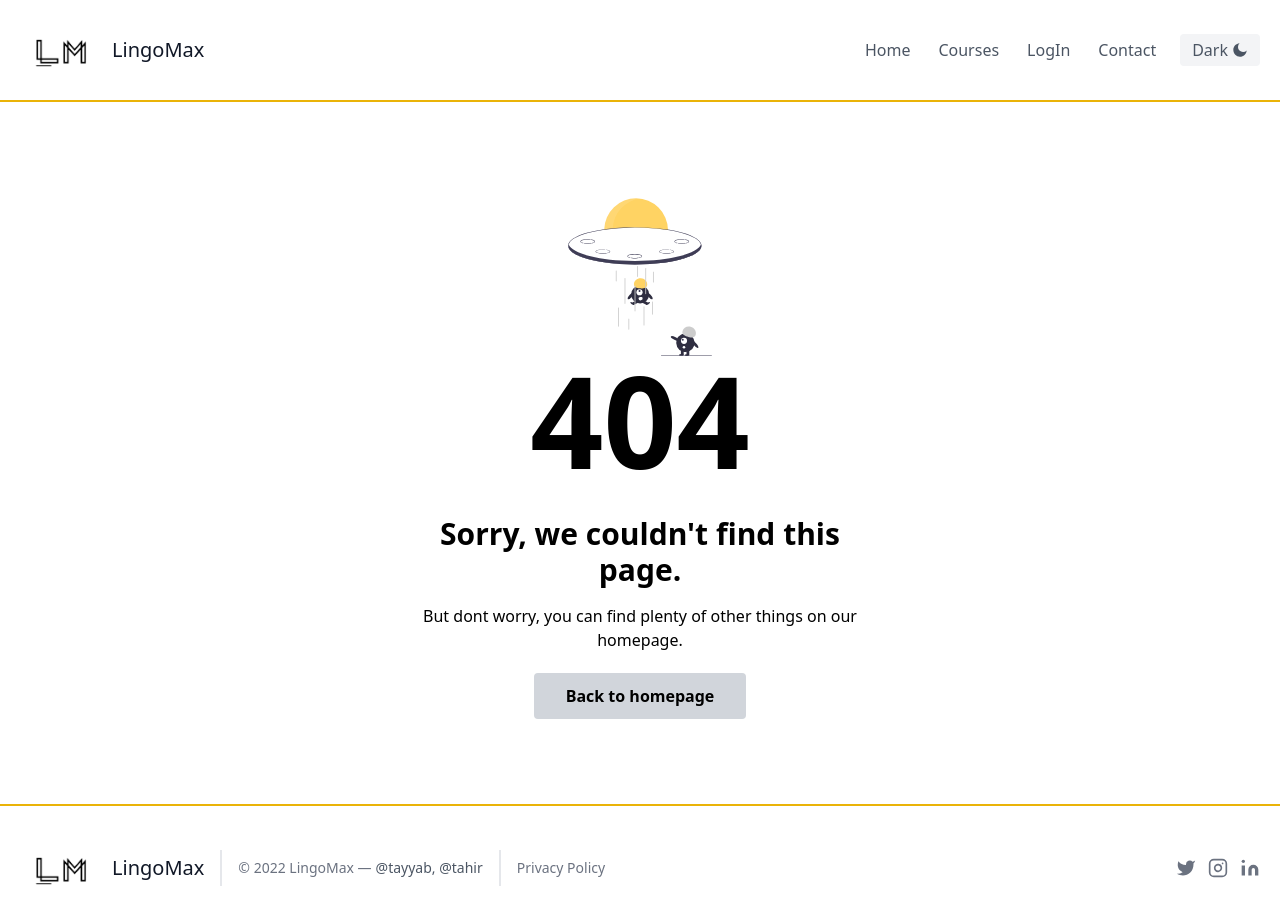
Test: Landing on a 404 › Clicking Back Button Redirects to Home
Click the link "Back to homepage" at [640, 696], box [534,673,746,719]
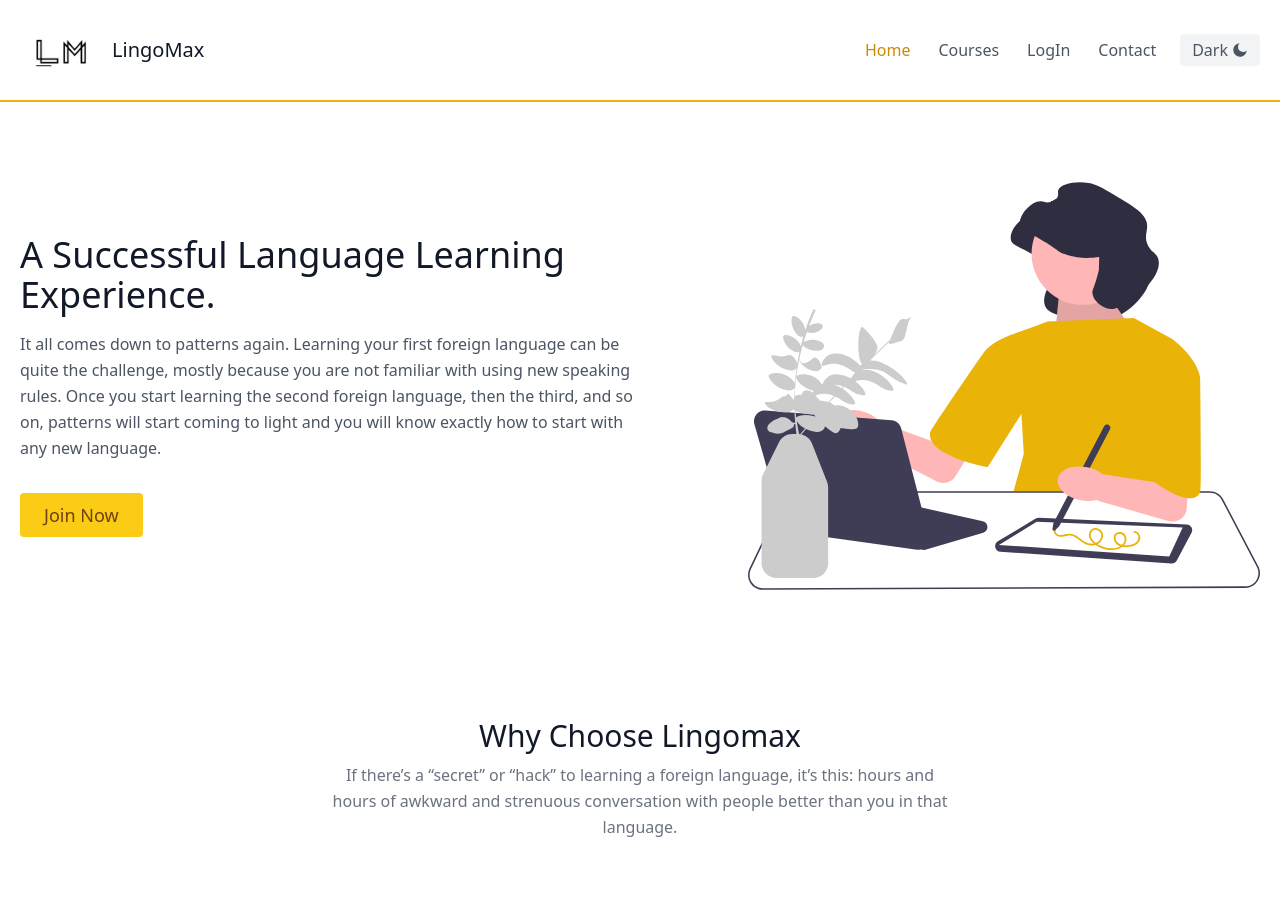
Expected: the heading "A Successful Language Learning Experience." is shown, [20,235,584,315]
